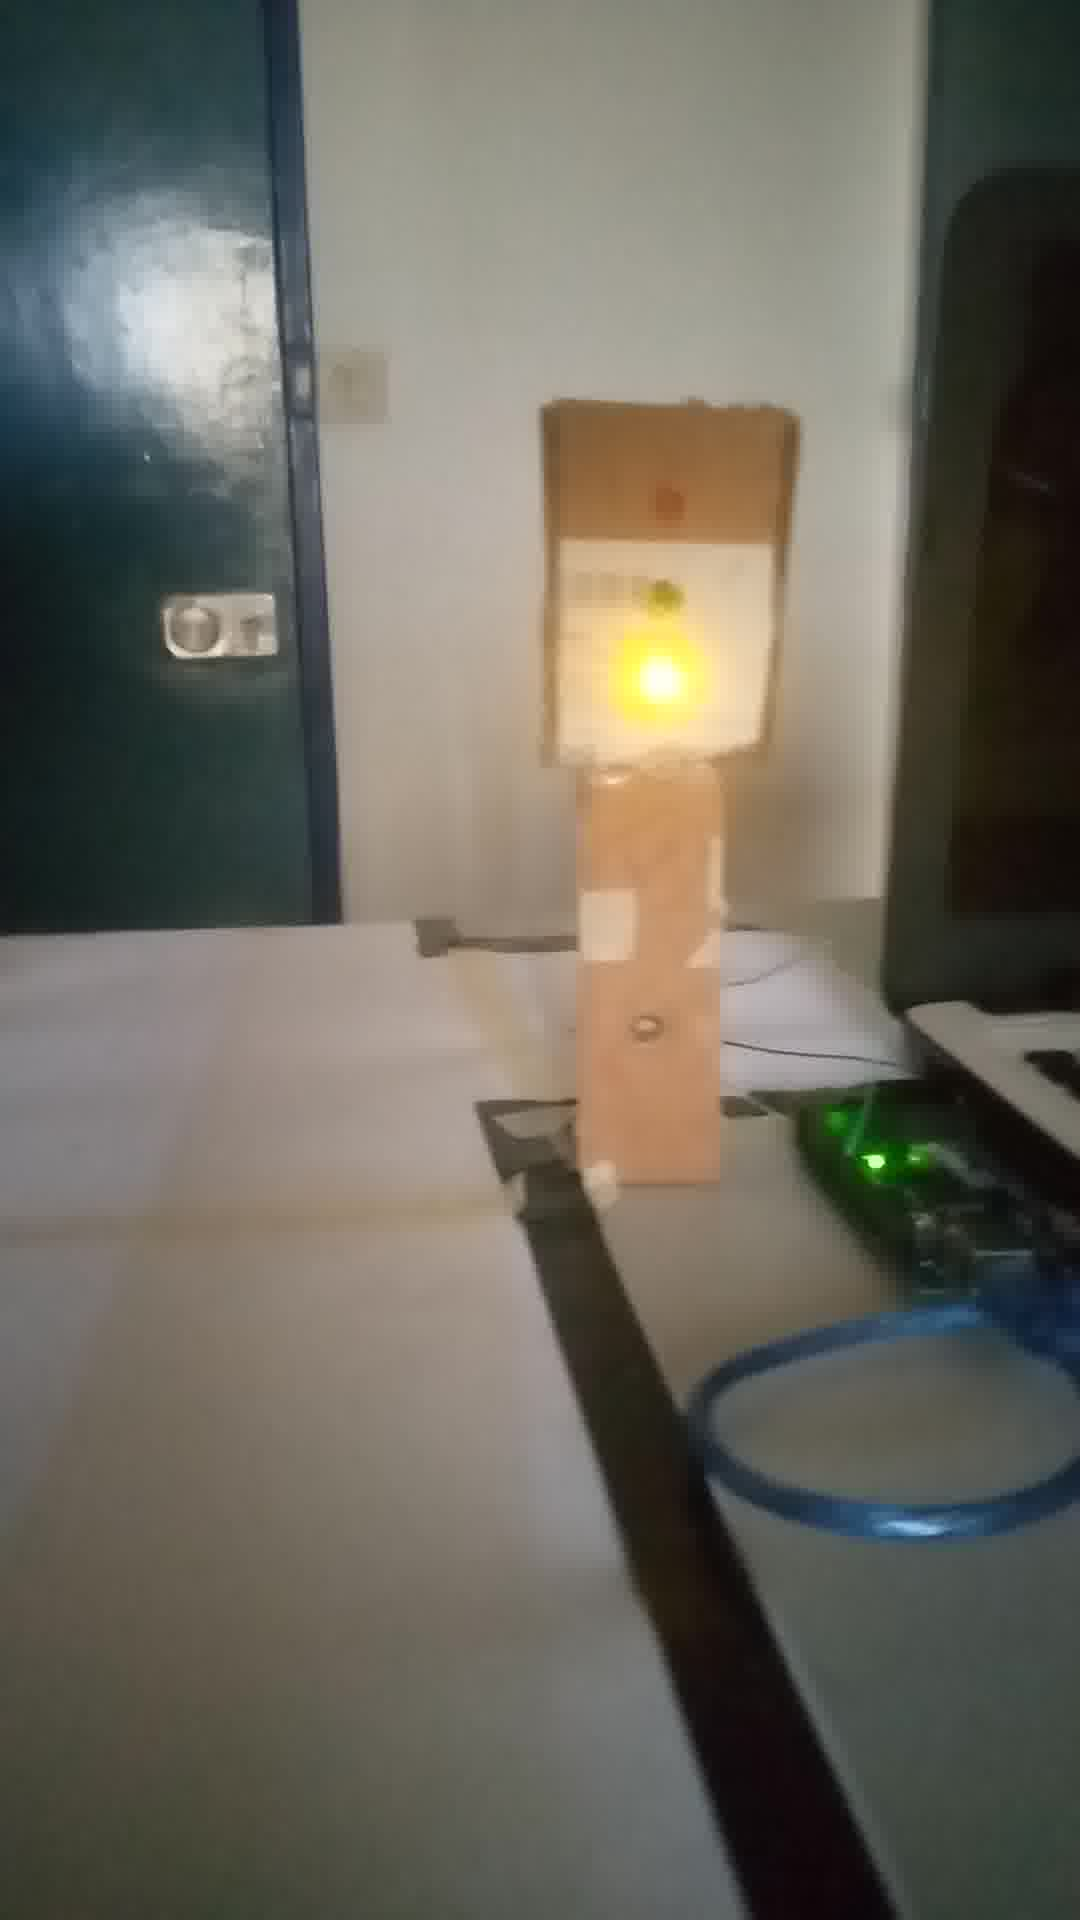green: (547, 400, 778, 769)
